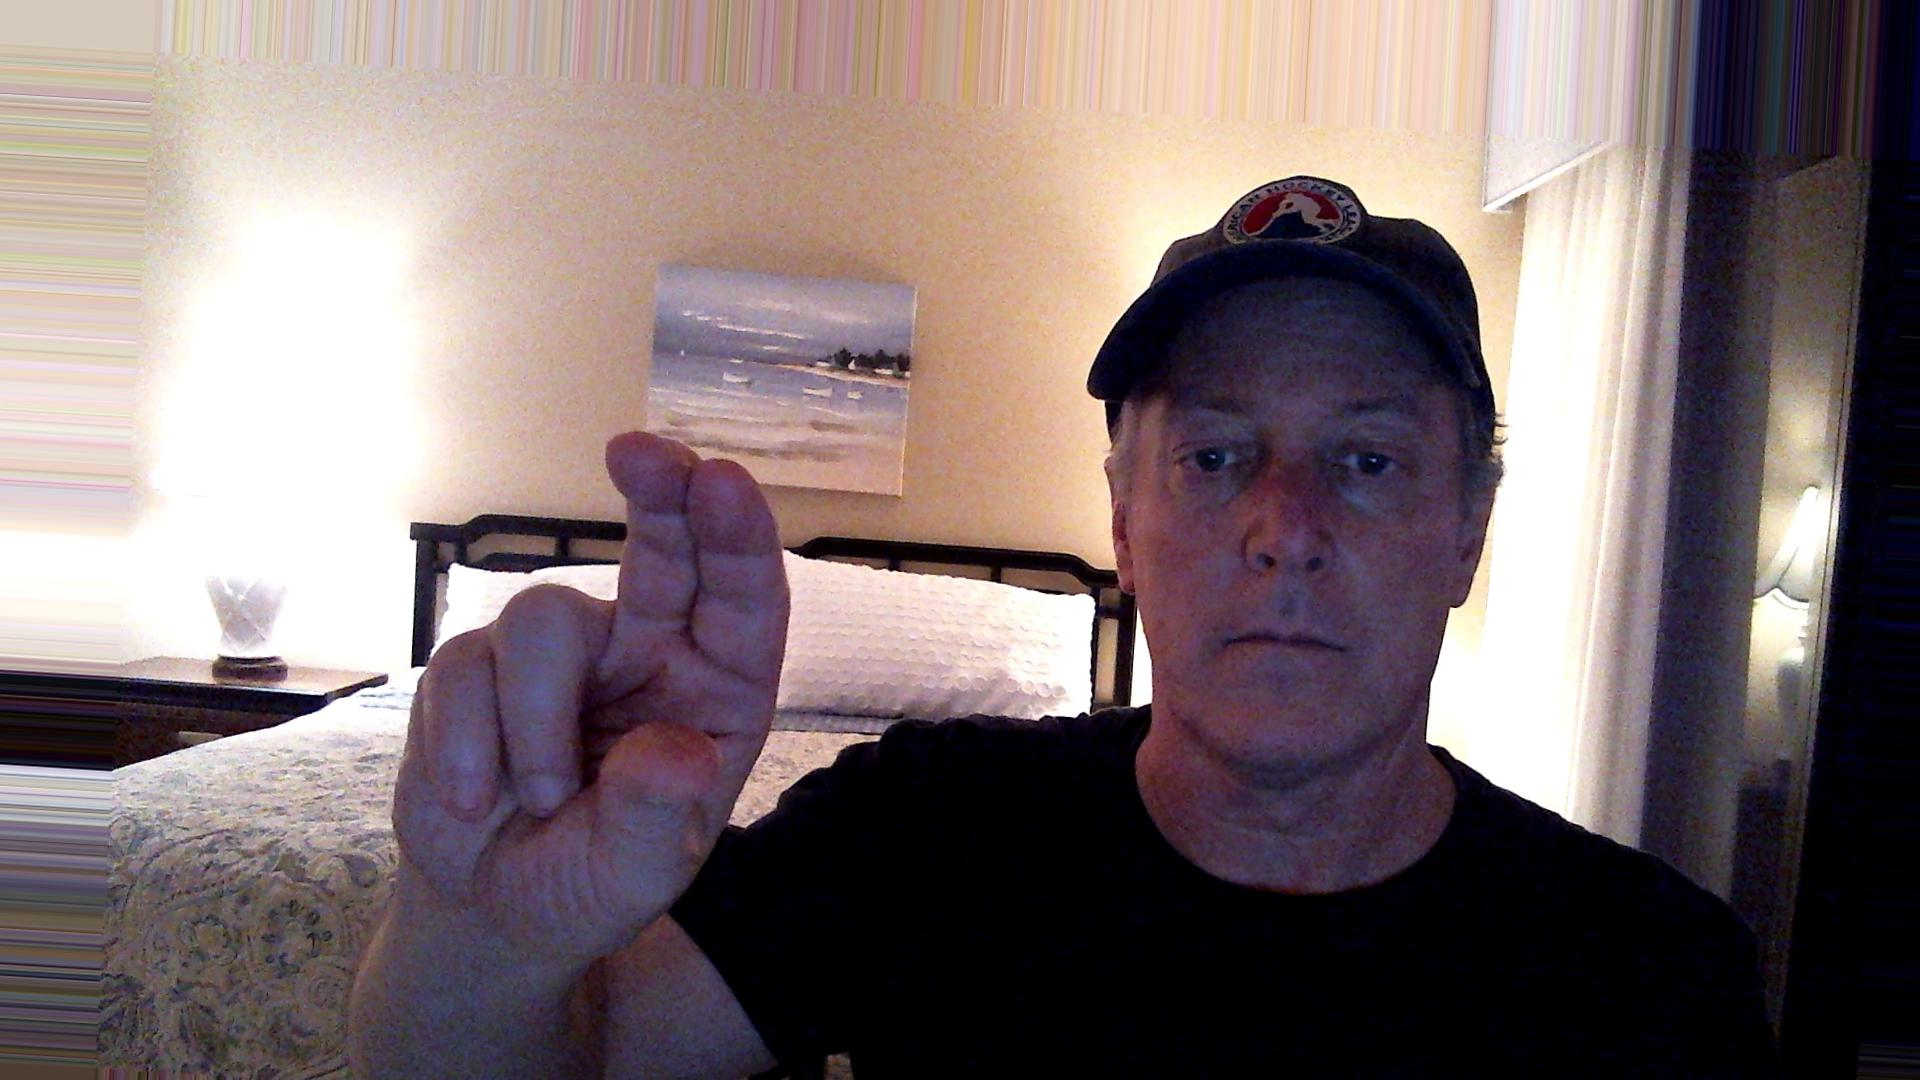No: (385, 400, 800, 964)
